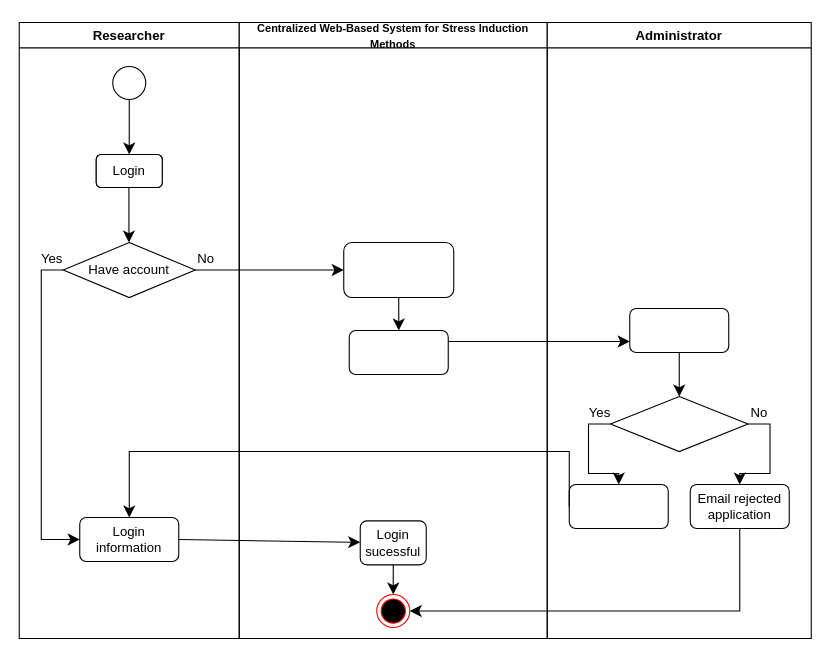
The diagram is 831 pixels wide and 658 high, and some of its shapes have lost their labels. Here are the shapes that lost their labels. From the top down, the box of each, then its label:
(343, 241, 454, 298): Display account creation request
(629, 307, 729, 353): Review the information
(348, 329, 448, 375): Fill the information
(609, 395, 748, 452): Application review
(568, 483, 668, 529): Email login information
